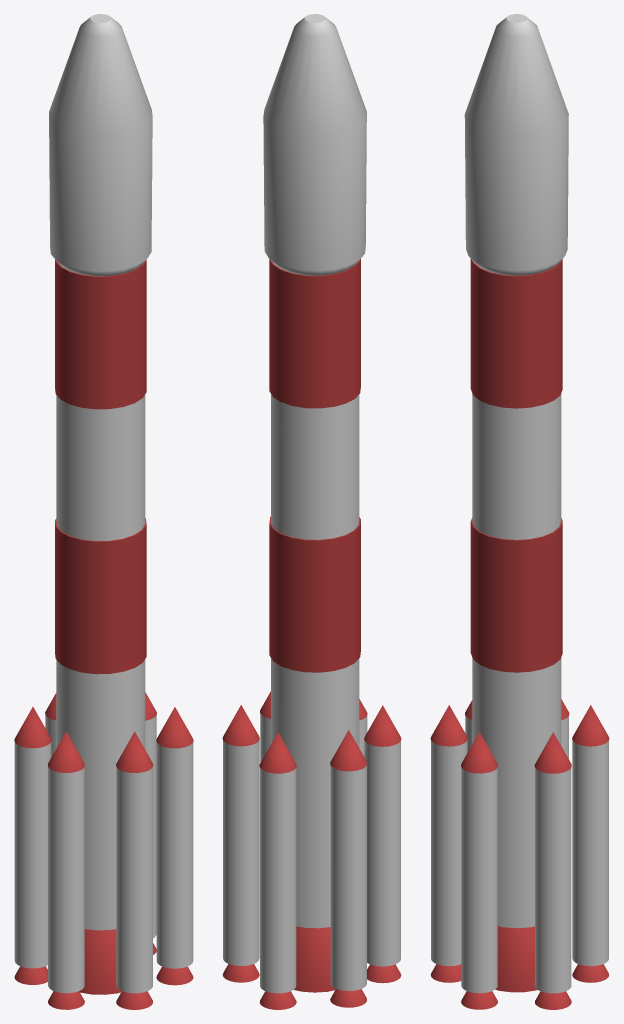
Rendered from RocketModel.fbx.
The picture shows the model from 3 angles, left to right: view 1: azimuth 30°, elevation 25°; view 2: azimuth 150°, elevation 25°; view 3: azimuth 270°, elevation 25°; orthographic projection.
Visible parts, largest first — view 1: ShuttleCock, PieceBottom, Piece3, Piece5, Piece4, Rocket3, Rocket6, Rocket1, Rocket4, PointyBit (×4), Thruster (×4), Thruster1 (+1 smaller); view 2: ShuttleCock, PieceBottom, Piece3, Piece5, Piece4, Rocket2, Rocket4, Rocket5, Rocket6, PointyBit (×4), Thruster1, Thruster (×4); view 3: ShuttleCock, PieceBottom, Piece3, Piece5, Piece4, Rocket5, Rocket3, Rocket2, Rocket1, PointyBit (×4), Thruster1, Thruster (×4).
Boxes of the visible parts, left/top/right/bottom form: ShuttleCock: left=49, top=14, right=152, bottom=276; PieceBottom: left=56, top=659, right=145, bottom=930; Piece3: left=55, top=518, right=146, bottom=674; Piece5: left=55, top=259, right=146, bottom=409; Piece4: left=56, top=394, right=145, bottom=541; Rocket3: left=156, top=742, right=193, bottom=968; Rocket6: left=48, top=767, right=84, bottom=993; Rocket1: left=116, top=767, right=152, bottom=993; Rocket4: left=14, top=742, right=51, bottom=968; PointyBit (×4): left=14, top=707, right=193, bottom=772; Thruster (×4): left=14, top=966, right=193, bottom=1009; Thruster1: left=79, top=929, right=121, bottom=994; ShuttleCock: left=263, top=14, right=366, bottom=275; PieceBottom: left=271, top=658, right=359, bottom=928; Piece3: left=269, top=516, right=360, bottom=672; Piece5: left=269, top=259, right=360, bottom=408; Piece4: left=271, top=394, right=359, bottom=539; Rocket2: left=260, top=768, right=296, bottom=993; Rocket4: left=330, top=765, right=366, bottom=990; Rocket5: left=223, top=740, right=259, bottom=965; Rocket6: left=364, top=740, right=400, bottom=966; PointyBit (×4): left=222, top=705, right=401, bottom=773; Thruster1: left=294, top=926, right=335, bottom=992; Thruster (×4): left=222, top=964, right=401, bottom=1009; ShuttleCock: left=464, top=14, right=568, bottom=275; PieceBottom: left=472, top=658, right=561, bottom=928; Piece3: left=470, top=518, right=562, bottom=672; Piece5: left=470, top=259, right=562, bottom=408; Piece4: left=472, top=394, right=561, bottom=539; Rocket5: left=535, top=768, right=571, bottom=993; Rocket3: left=461, top=767, right=497, bottom=993; Rocket2: left=572, top=740, right=608, bottom=966; Rocket1: left=431, top=740, right=467, bottom=966; PointyBit (×4): left=430, top=705, right=609, bottom=773; Thruster1: left=495, top=926, right=537, bottom=992; Thruster (×4): left=431, top=964, right=608, bottom=1009.
Size of the model in its own units: 360 by 2371 by 402.
